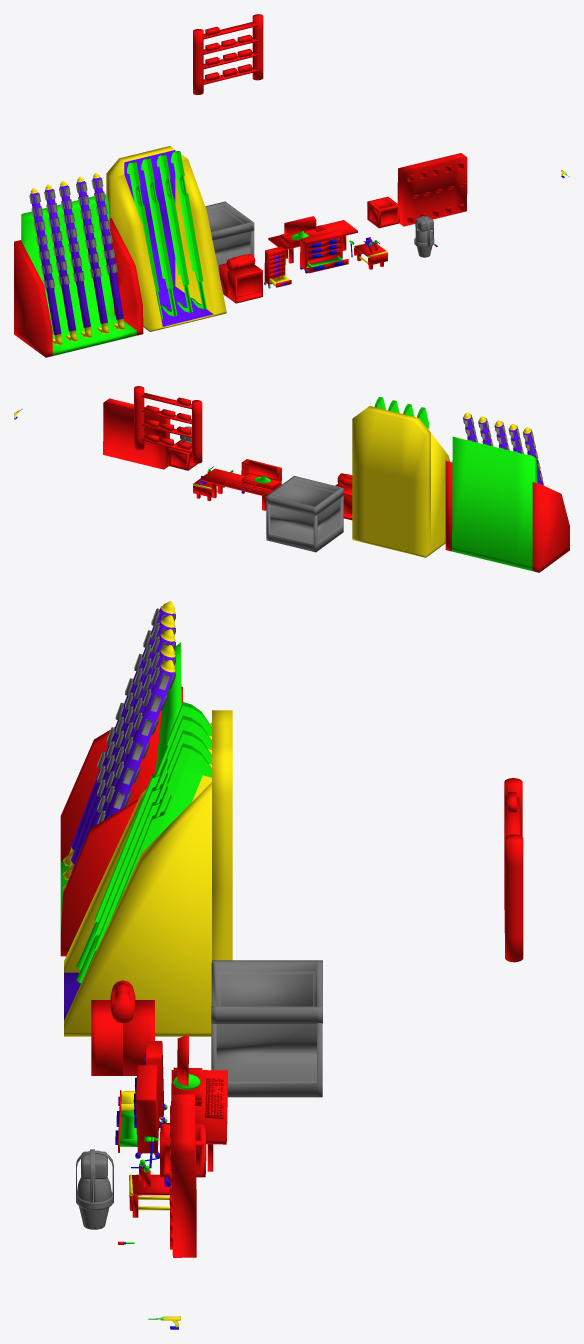
Rendered from Locker.obj.
3 views of the same model, one above another, from view 1: azimuth 30°, elevation 25°; view 2: azimuth 150°, elevation 25°; view 3: azimuth 270°, elevation 25° (orthographic). The views are drawn at different scales.
Parts seen in each view (by area): view 1: Weapon_Rack_, Rack, Box089, Plant_box, Exicutioners_blade004, Exicutioners_blade003, Exicutioners_blade005, Box031, Tetsubo_2, tetsubo_4, Tetsubo_1, tetsubo_5 (+8 smaller); view 2: Weapon_Rack_, Rack, Plant_box, Box089, Cylinder559, Cylinder558, Box128, Box1699, Box249, Box031, Box248, Box1950; view 3: Rack, Plant_box, Weapon_Rack_, Box089, Box031, Exicutioners_blade005, Cylinder558, Exicutioners_blade003, Exicutioners_blade002, Box261, tetsubo_5, Exicutioners_blade004 (+7 smaller).
Boxes of the visible parts, bbox=[...] form: Weapon_Rack_: bbox=[14, 194, 143, 357]; Rack: bbox=[106, 146, 226, 331]; Box089: bbox=[397, 153, 467, 226]; Plant_box: bbox=[205, 201, 254, 273]; Exicutioners_blade004: bbox=[156, 154, 192, 312]; Exicutioners_blade003: bbox=[141, 158, 177, 316]; Exicutioners_blade005: bbox=[171, 151, 206, 309]; Box031: bbox=[219, 263, 262, 303]; Tetsubo_2: bbox=[45, 184, 77, 341]; tetsubo_4: bbox=[76, 176, 109, 333]; Tetsubo_1: bbox=[30, 188, 62, 345]; tetsubo_5: bbox=[92, 173, 124, 329]; Weapon_Rack_: bbox=[445, 436, 569, 572]; Rack: bbox=[352, 406, 450, 557]; Plant_box: bbox=[266, 475, 343, 552]; Box089: bbox=[103, 398, 170, 469]; Cylinder559: bbox=[192, 400, 202, 463]; Cylinder558: bbox=[134, 386, 144, 449]; Box128: bbox=[200, 468, 280, 496]; Box1699: bbox=[168, 440, 197, 470]; Box249: bbox=[248, 460, 279, 479]; Box031: bbox=[335, 484, 352, 520]; Box248: bbox=[241, 474, 280, 490]; Box1950: bbox=[141, 392, 191, 409]; Rack: bbox=[64, 710, 232, 1036]; Plant_box: bbox=[211, 960, 322, 1097]; Weapon_Rack_: bbox=[60, 642, 182, 956]; Box089: bbox=[171, 1094, 196, 1257]; Box031: bbox=[91, 1000, 154, 1075]; Exicutioners_blade005: bbox=[111, 743, 211, 918]; Cylinder558: bbox=[505, 834, 523, 962]; Exicutioners_blade003: bbox=[76, 715, 211, 983]; Exicutioners_blade002: bbox=[76, 702, 211, 969]; Box261: bbox=[136, 1065, 159, 1153]; tetsubo_5: bbox=[103, 660, 175, 820]; Exicutioners_blade004: bbox=[80, 730, 211, 985].
Bounding box in the file's own units: 1568 × 504 × 597.
